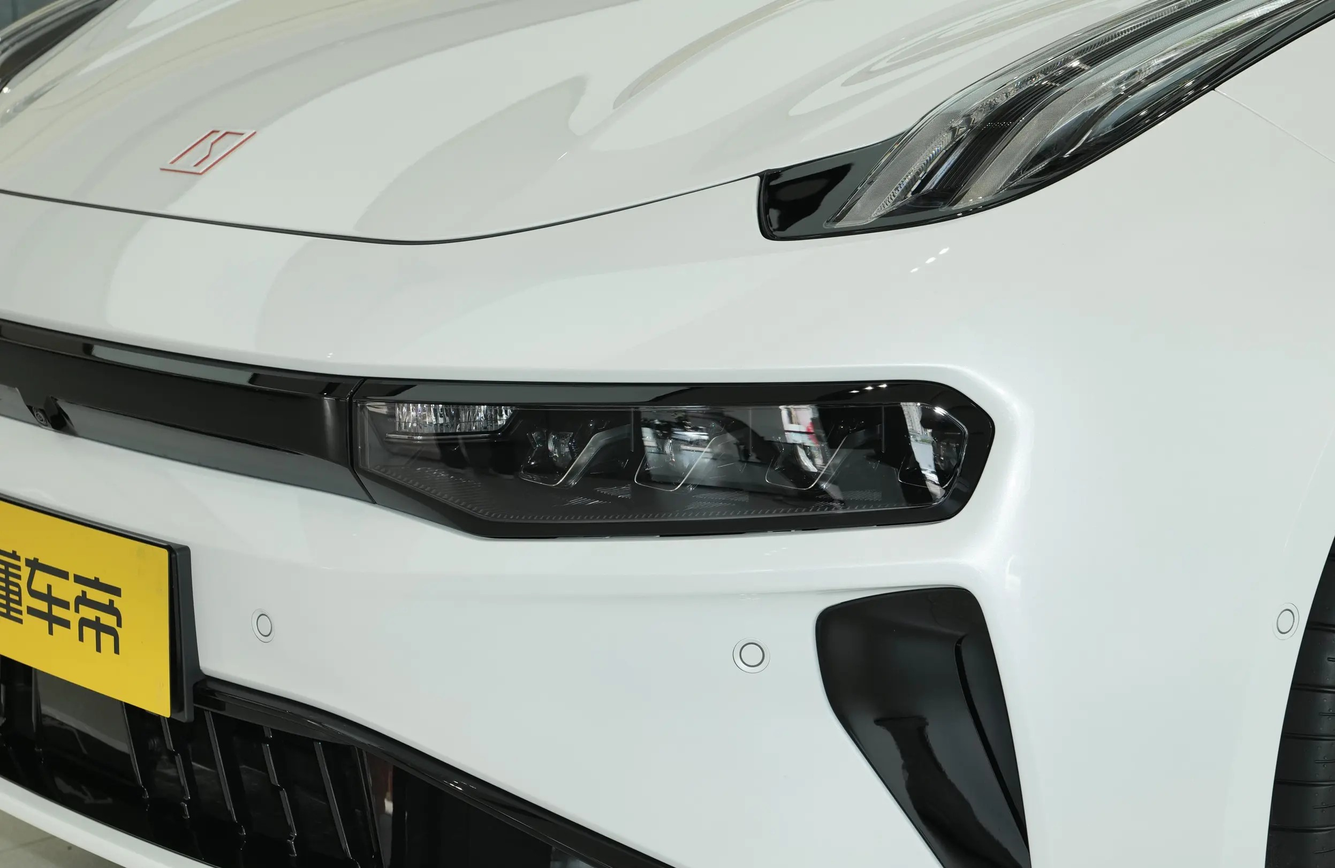ZEEKR: (160, 127, 256, 174)
